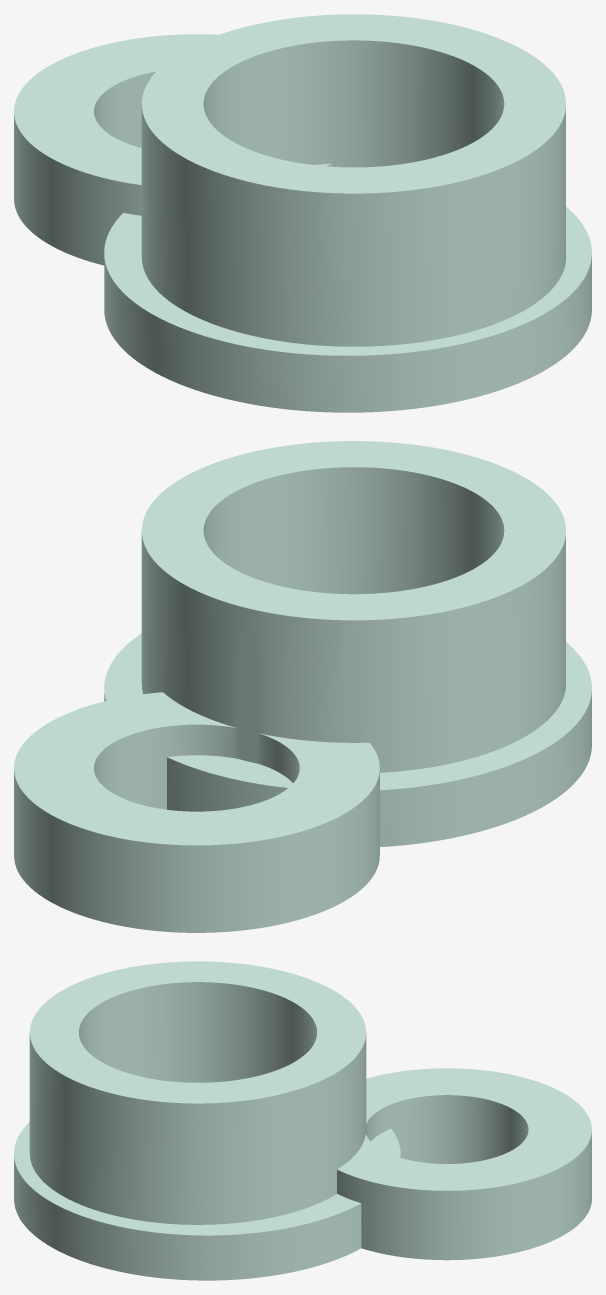
3 renders of one model, top to bottom at view 1: azimuth 30°, elevation 25°; view 2: azimuth 150°, elevation 25°; view 3: azimuth 270°, elevation 25°, orthographic. The views are drawn at different scales.
Visible parts, largest first — view 1: Renderer Node; view 2: Renderer Node; view 3: Renderer Node.
Part boxes in pixels (x1,y1,x2,y2): Renderer Node: [14, 14, 591, 412]; Renderer Node: [14, 441, 591, 932]; Renderer Node: [14, 961, 591, 1280].
Bounding box in the file's own units: 0.7892 × 0.375 × 1.18.
